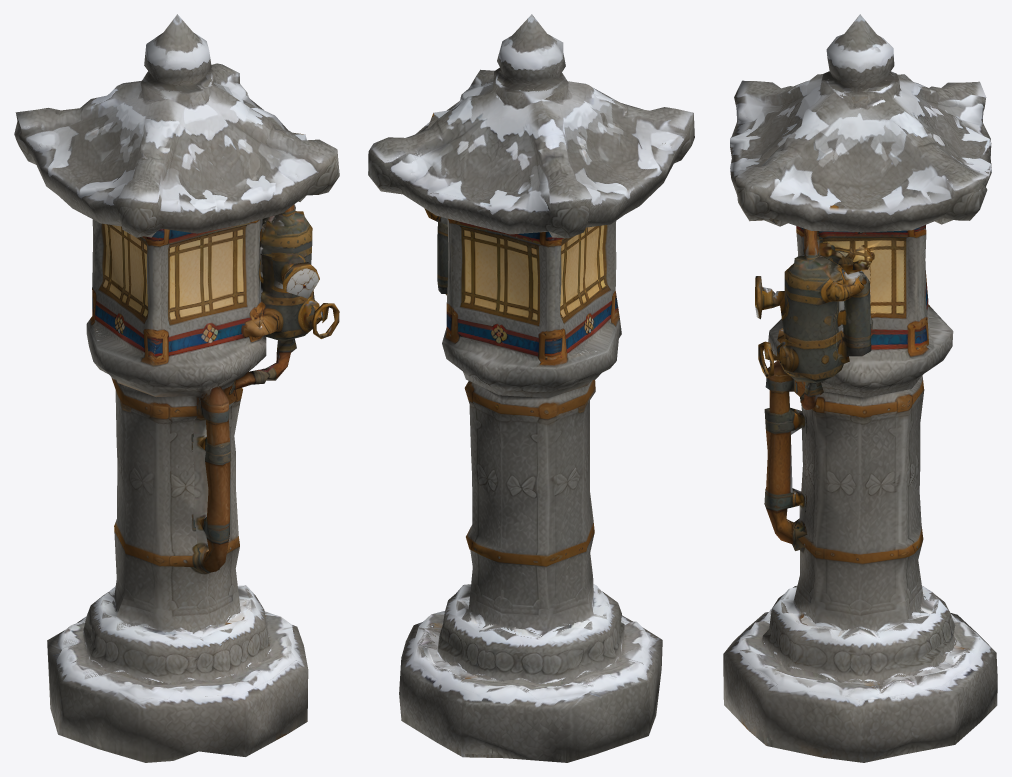
File: PR_StoneLamp.fbx
3 views of the same model, side by side, from view 1: azimuth 30°, elevation 25°; view 2: azimuth 150°, elevation 25°; view 3: azimuth 270°, elevation 25° (orthographic).
Visible parts, largest first — view 1: texture_mapping; view 2: texture_mapping; view 3: texture_mapping.
Boxes of the visible parts, box(x1,y1,x2,y2) form: texture_mapping: box(14, 14, 339, 762); texture_mapping: box(368, 14, 694, 762); texture_mapping: box(723, 14, 997, 762).
Bounding box in the file's own units: 0.3587 × 0.3594 × 1.
Materials: 1 (1 with a texture image).
